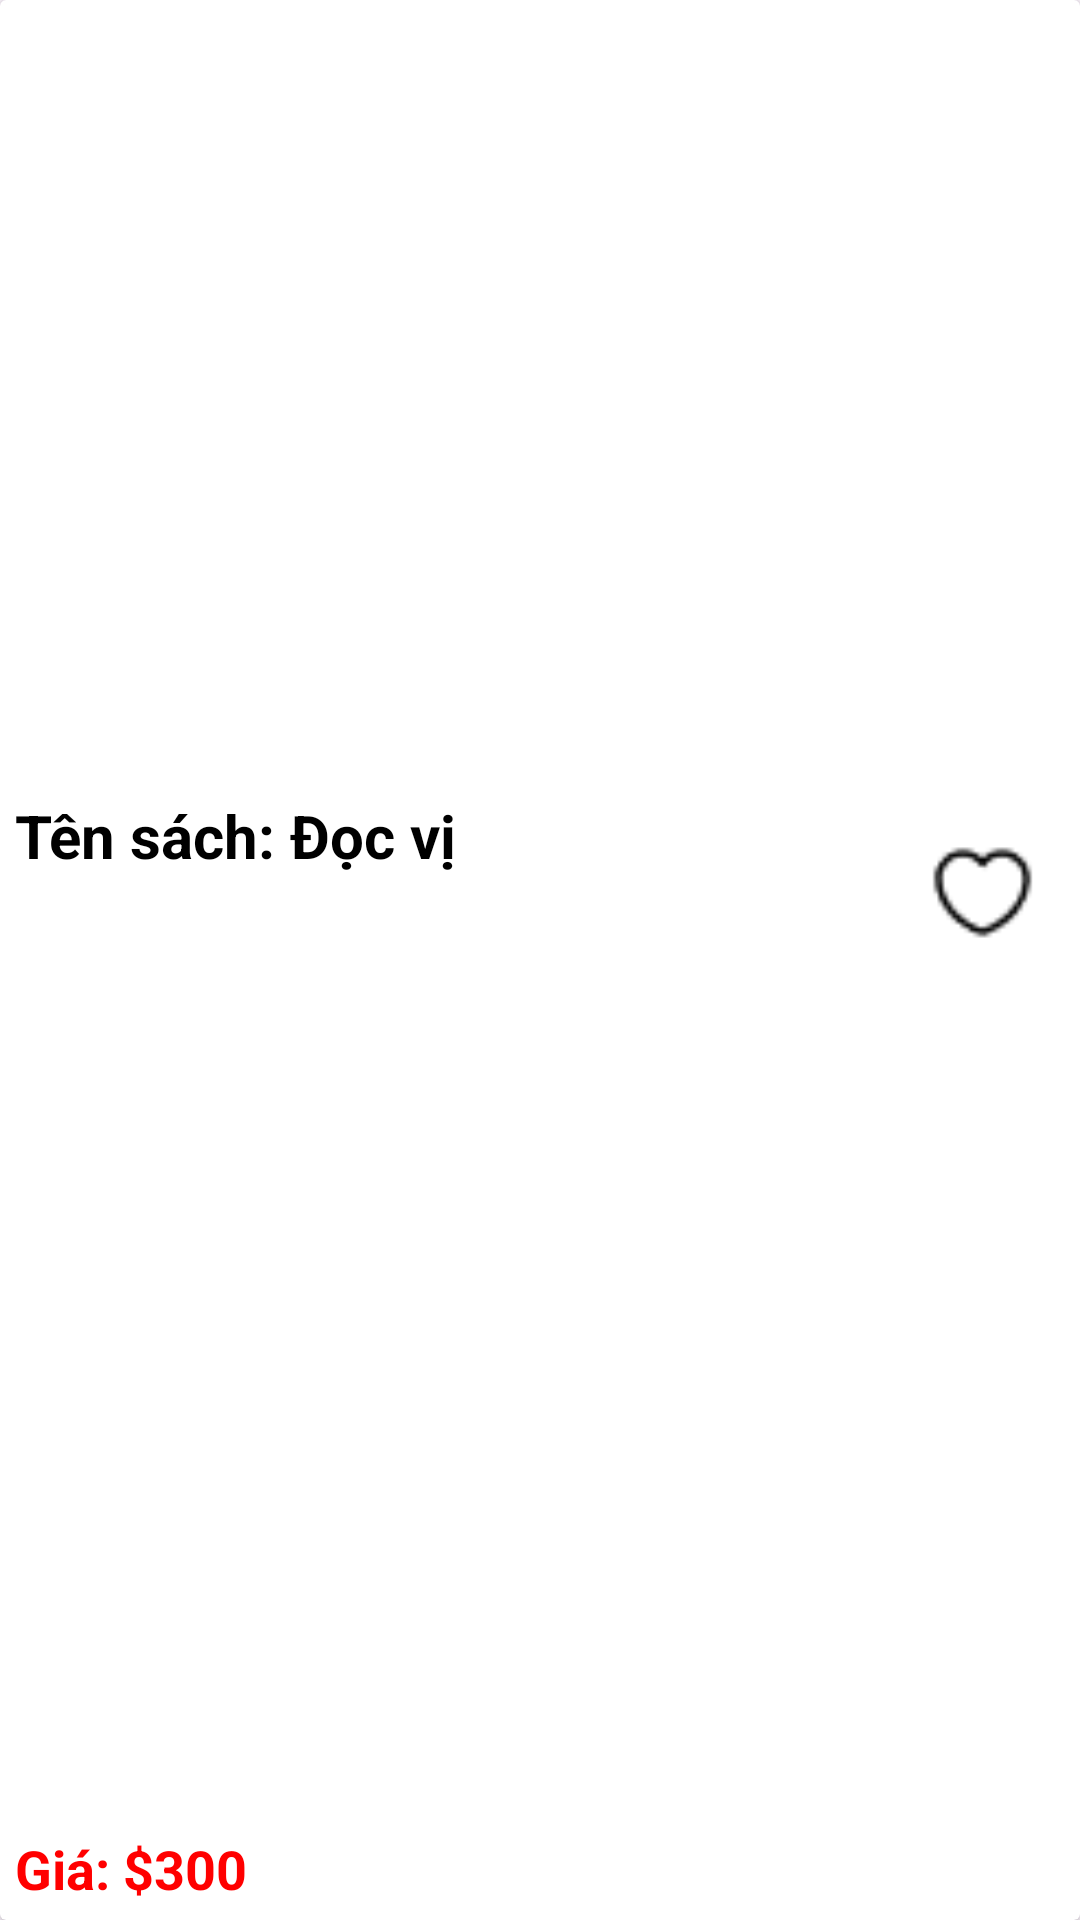

Named icons in this screenshot (1080w x 1920h) and their centers, (x=x, y=y):
yeuthich: (x=982, y=892)
